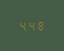eight: (37, 19, 45, 30)
four: (18, 20, 26, 31), (28, 20, 36, 30)
